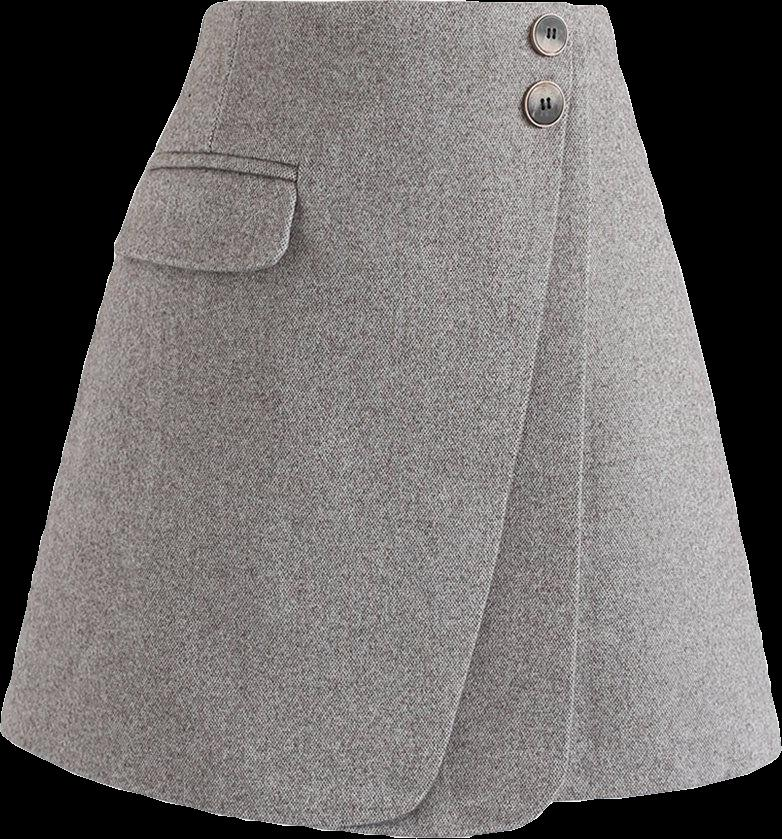Hemline: (0, 11, 598, 838), (0, 12, 577, 832), (554, 743, 781, 804)
Waistline: (205, 0, 603, 15)
